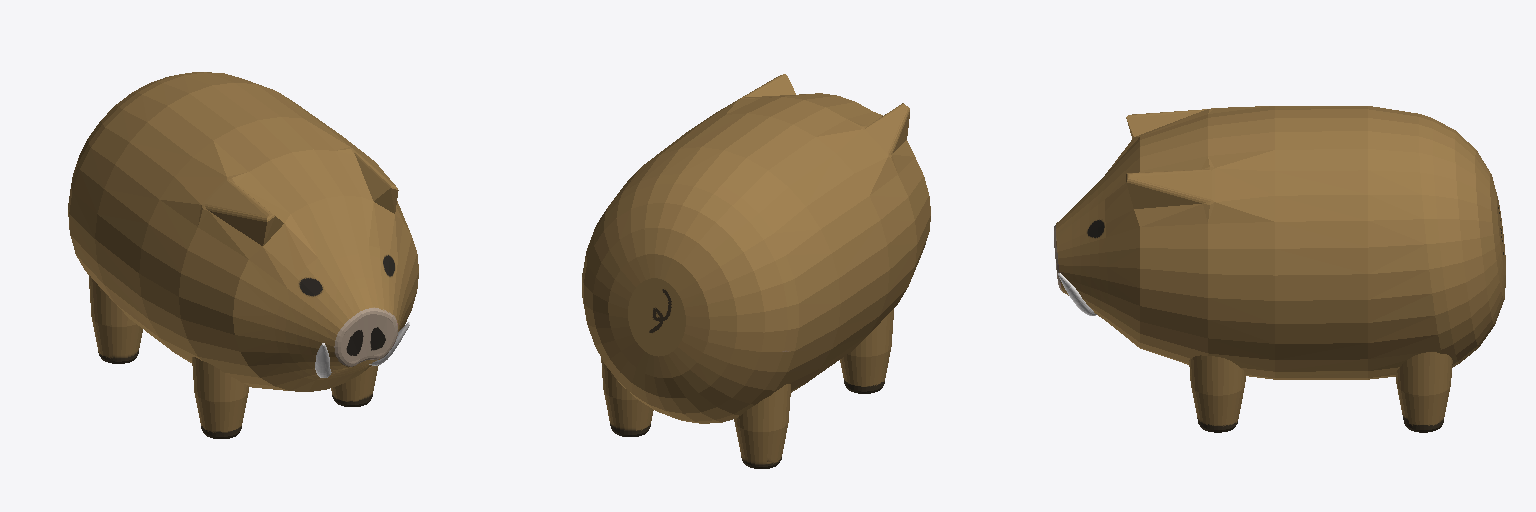
3 views of the same model, side by side, from view 1: azimuth 30°, elevation 25°; view 2: azimuth 150°, elevation 25°; view 3: azimuth 270°, elevation 25° (orthographic).
Parts seen in each view (by area): view 1: 円柱.002; view 2: 円柱.002; view 3: 円柱.002.
Boxes of the visible parts, x1=… form: 円柱.002: x1=68, y1=72, x2=418, y2=438; 円柱.002: x1=582, y1=74, x2=930, y2=468; 円柱.002: x1=1054, y1=106, x2=1505, y2=432.
Size of the model in its own units: 2 by 2.21 by 3.28.
1 materials, 1 textured.